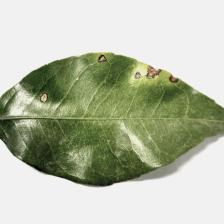canker: (33, 44, 186, 106)
